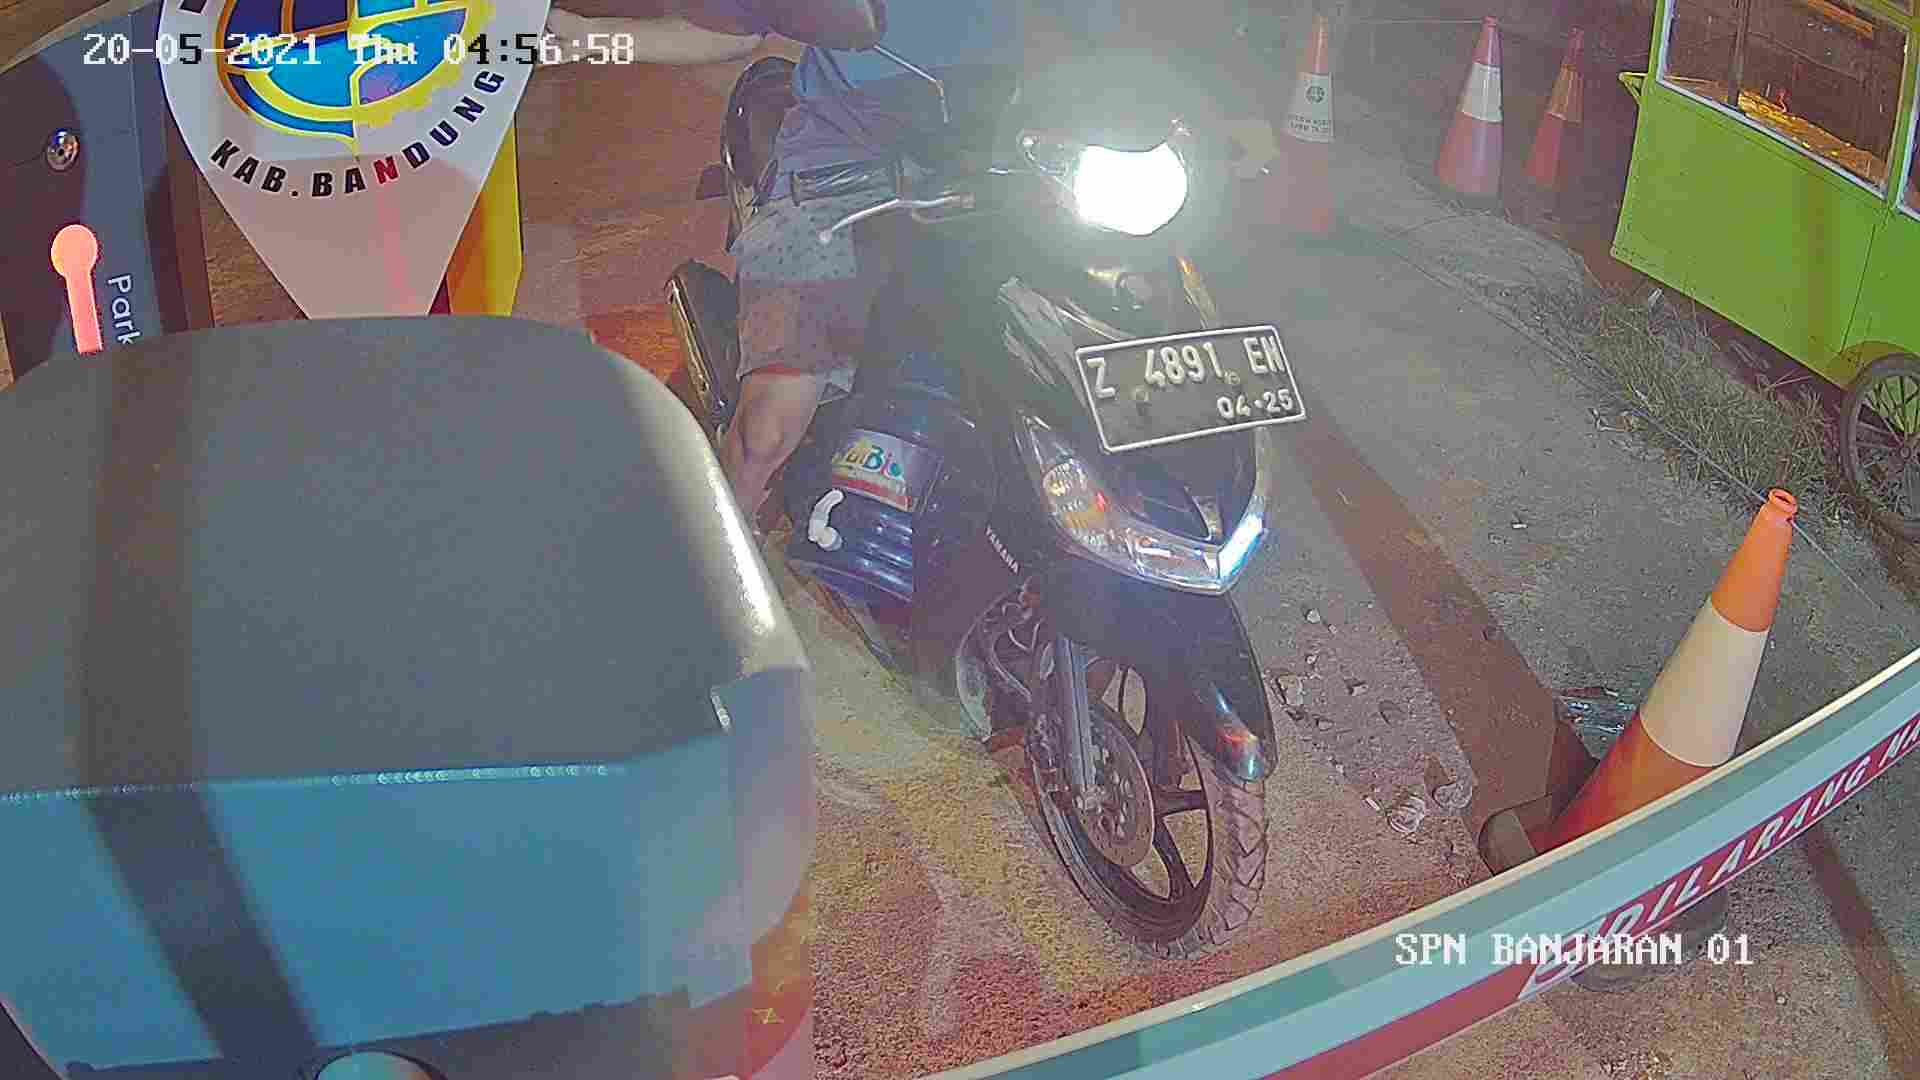motor: (738, 102, 1389, 944)
